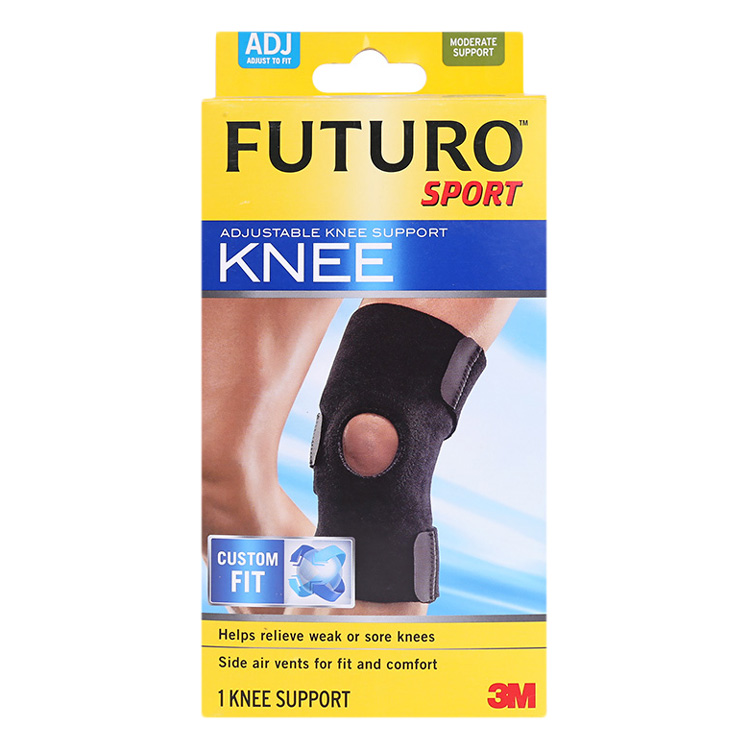3M: (483, 677, 541, 714)
